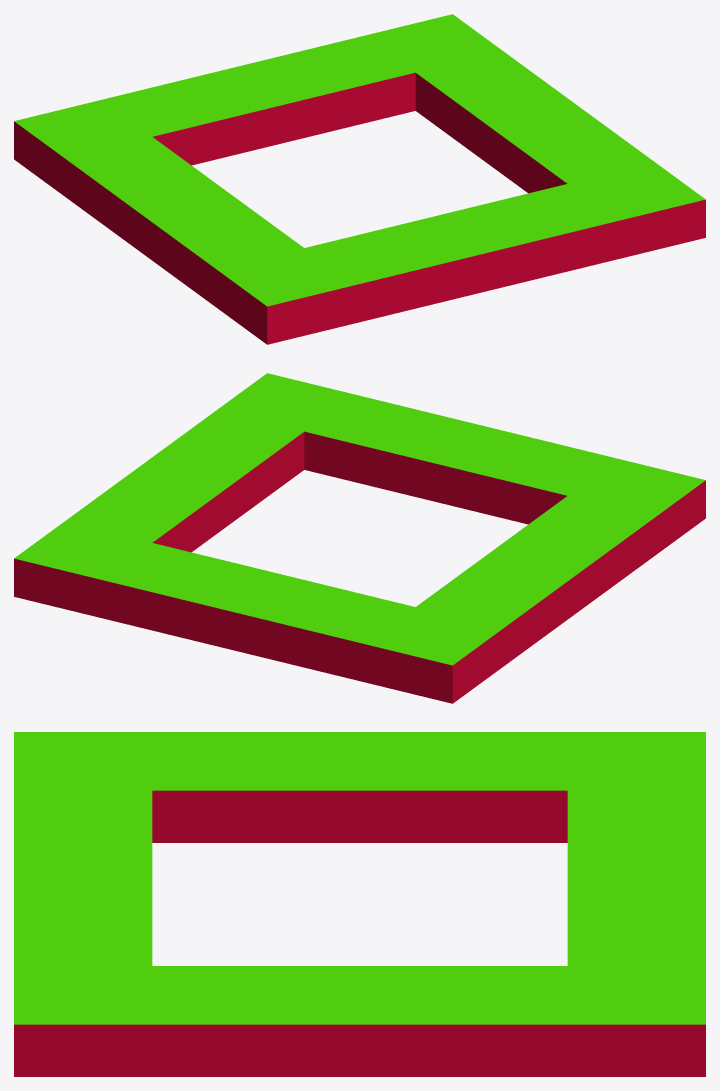
The model's file is GroundHoleforGrid.fbx.
3 views of the same model, one above another, from view 1: azimuth 30°, elevation 25°; view 2: azimuth 150°, elevation 25°; view 3: azimuth 270°, elevation 25° (orthographic). The views are drawn at different scales.
Visible parts, largest first — view 1: pCube1; view 2: pCube1; view 3: pCube1.
Part boxes in pixels (x1=…): pCube1: x1=14, y1=14, x2=705, y2=344; pCube1: x1=14, y1=373, x2=705, y2=703; pCube1: x1=14, y1=732, x2=705, y2=1076.
Size of the model in its own units: 6 by 0.5 by 6.
